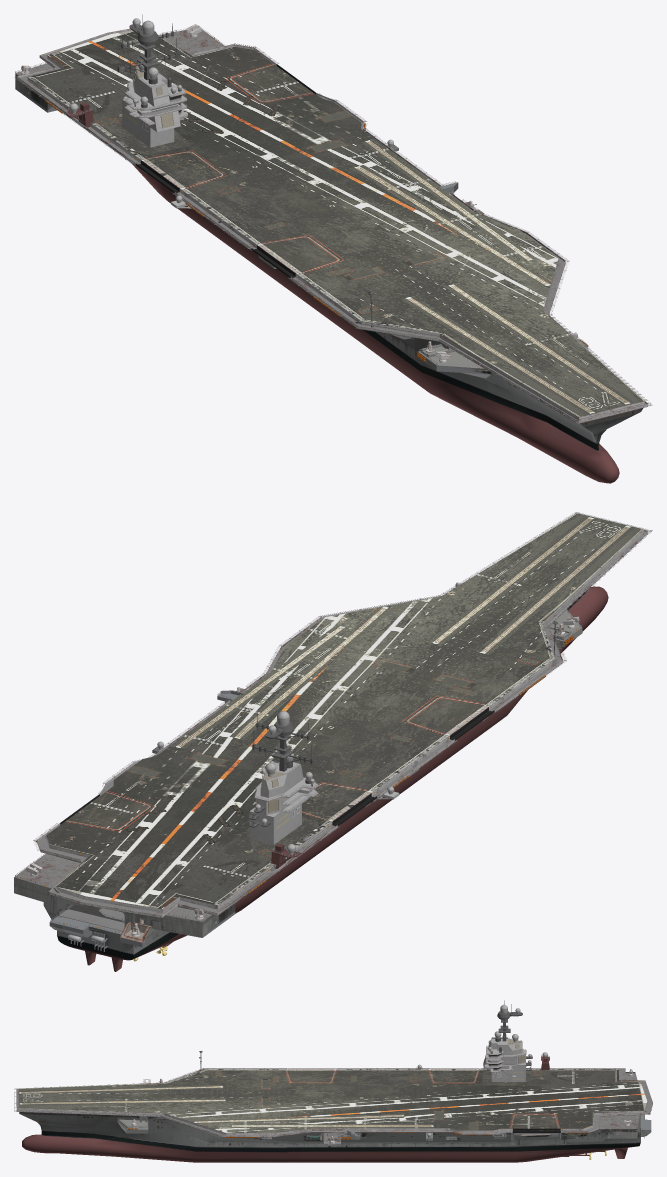
File: carrier.glb
3 views of the same model, one above another, from view 1: azimuth 30°, elevation 25°; view 2: azimuth 150°, elevation 25°; view 3: azimuth 270°, elevation 25° (orthographic). The views are drawn at different scales.
Parts seen in each view (by area): view 1: ship_deck_ship_0, right_back_radar_holder_ship rest_0, ship_deck_deck side walks_0, stairs_vertical_lambert1_0, ship_bridge_ship_bridge1_0, radar_holders_radars_0, stairs_vertical_ship_interiors_0; view 2: ship_deck_ship_0, right_back_radar_holder_ship rest_0, ship_deck_deck side walks_0, stairs_vertical_lambert1_0, ship_bridge_ship_bridge1_0, stairs_vertical_ship_interiors_0, radar_holders_radars_0; view 3: ship_deck_ship_0, right_back_radar_holder_ship rest_0, ship_deck_deck side walks_0, stairs_vertical_lambert1_0, ship_bridge_ship_bridge1_0, stairs_vertical_ship_interiors_0, radar_holders_radars_0.
Part boxes in pixels (x1=…): ship_deck_ship_0: x1=28, y1=30, x2=644, y2=416; right_back_radar_holder_ship rest_0: x1=15, y1=73, x2=643, y2=483; ship_deck_deck side walks_0: x1=16, y1=28, x2=648, y2=423; stairs_vertical_lambert1_0: x1=14, y1=25, x2=652, y2=423; ship_bridge_ship_bridge1_0: x1=122, y1=67, x2=187, y2=147; radar_holders_radars_0: x1=69, y1=14, x2=393, y2=203; stairs_vertical_ship_interiors_0: x1=15, y1=30, x2=481, y2=212; ship_deck_ship_0: x1=46, y1=513, x2=643, y2=908; right_back_radar_holder_ship rest_0: x1=14, y1=586, x2=608, y2=971; ship_deck_deck side walks_0: x1=37, y1=529, x2=648, y2=918; stairs_vertical_lambert1_0: x1=15, y1=512, x2=652, y2=961; ship_bridge_ship_bridge1_0: x1=249, y1=762, x2=318, y2=844; stairs_vertical_ship_interiors_0: x1=14, y1=688, x2=244, y2=942; radar_holders_radars_0: x1=157, y1=711, x2=394, y2=854; ship_deck_ship_0: x1=18, y1=1068, x2=647, y2=1132; right_back_radar_holder_ship rest_0: x1=19, y1=1056, x2=651, y2=1162; ship_deck_deck side walks_0: x1=16, y1=1068, x2=652, y2=1137; stairs_vertical_lambert1_0: x1=14, y1=1036, x2=651, y2=1159; ship_bridge_ship_bridge1_0: x1=483, y1=1038, x2=526, y2=1082; stairs_vertical_ship_interiors_0: x1=324, y1=1073, x2=639, y2=1143; radar_holders_radars_0: x1=417, y1=1000, x2=547, y2=1137.
Bounding box in the file's own units: 161 × 131 × 599.
11 materials, 10 textured.
